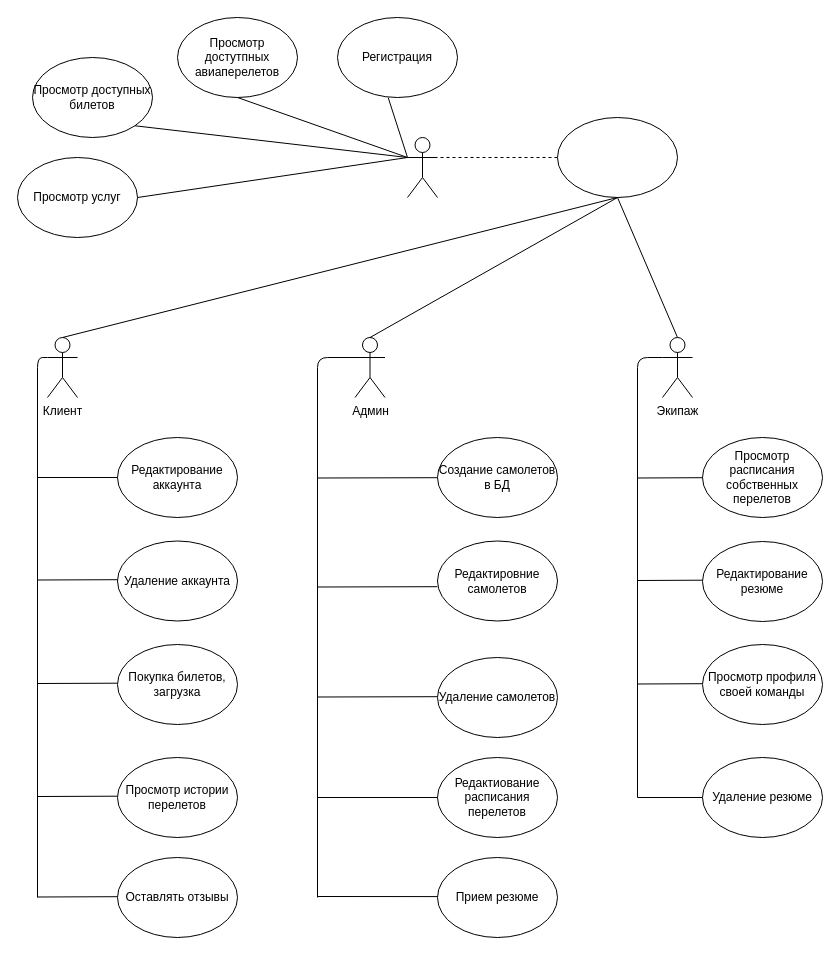
Some shapes in this 840 by 955 pixel diagram are drawn without their labels. The box of each missing label's shape, as (x1, y1, x2, y2) in pixels:
Выбор типа аккаунта: (556, 116, 678, 198)
Незарегистрированный пользователь: (406, 136, 438, 198)
